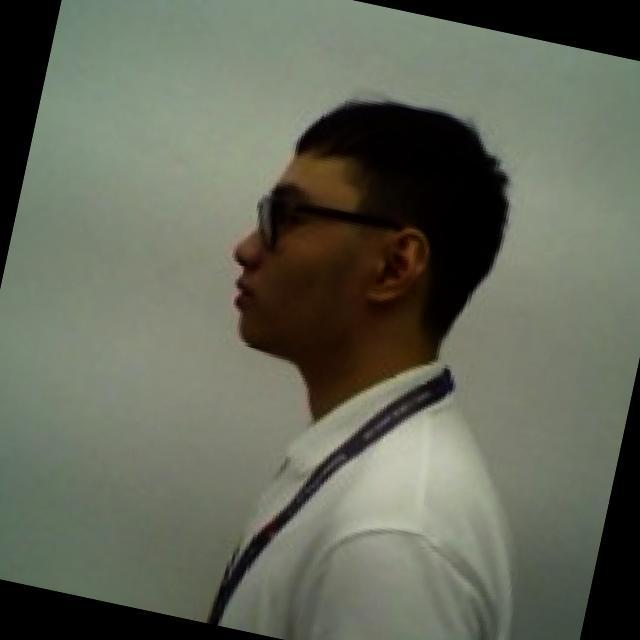no_gloves: (248, 70, 534, 290)
no_hairnet: (204, 186, 446, 395)
